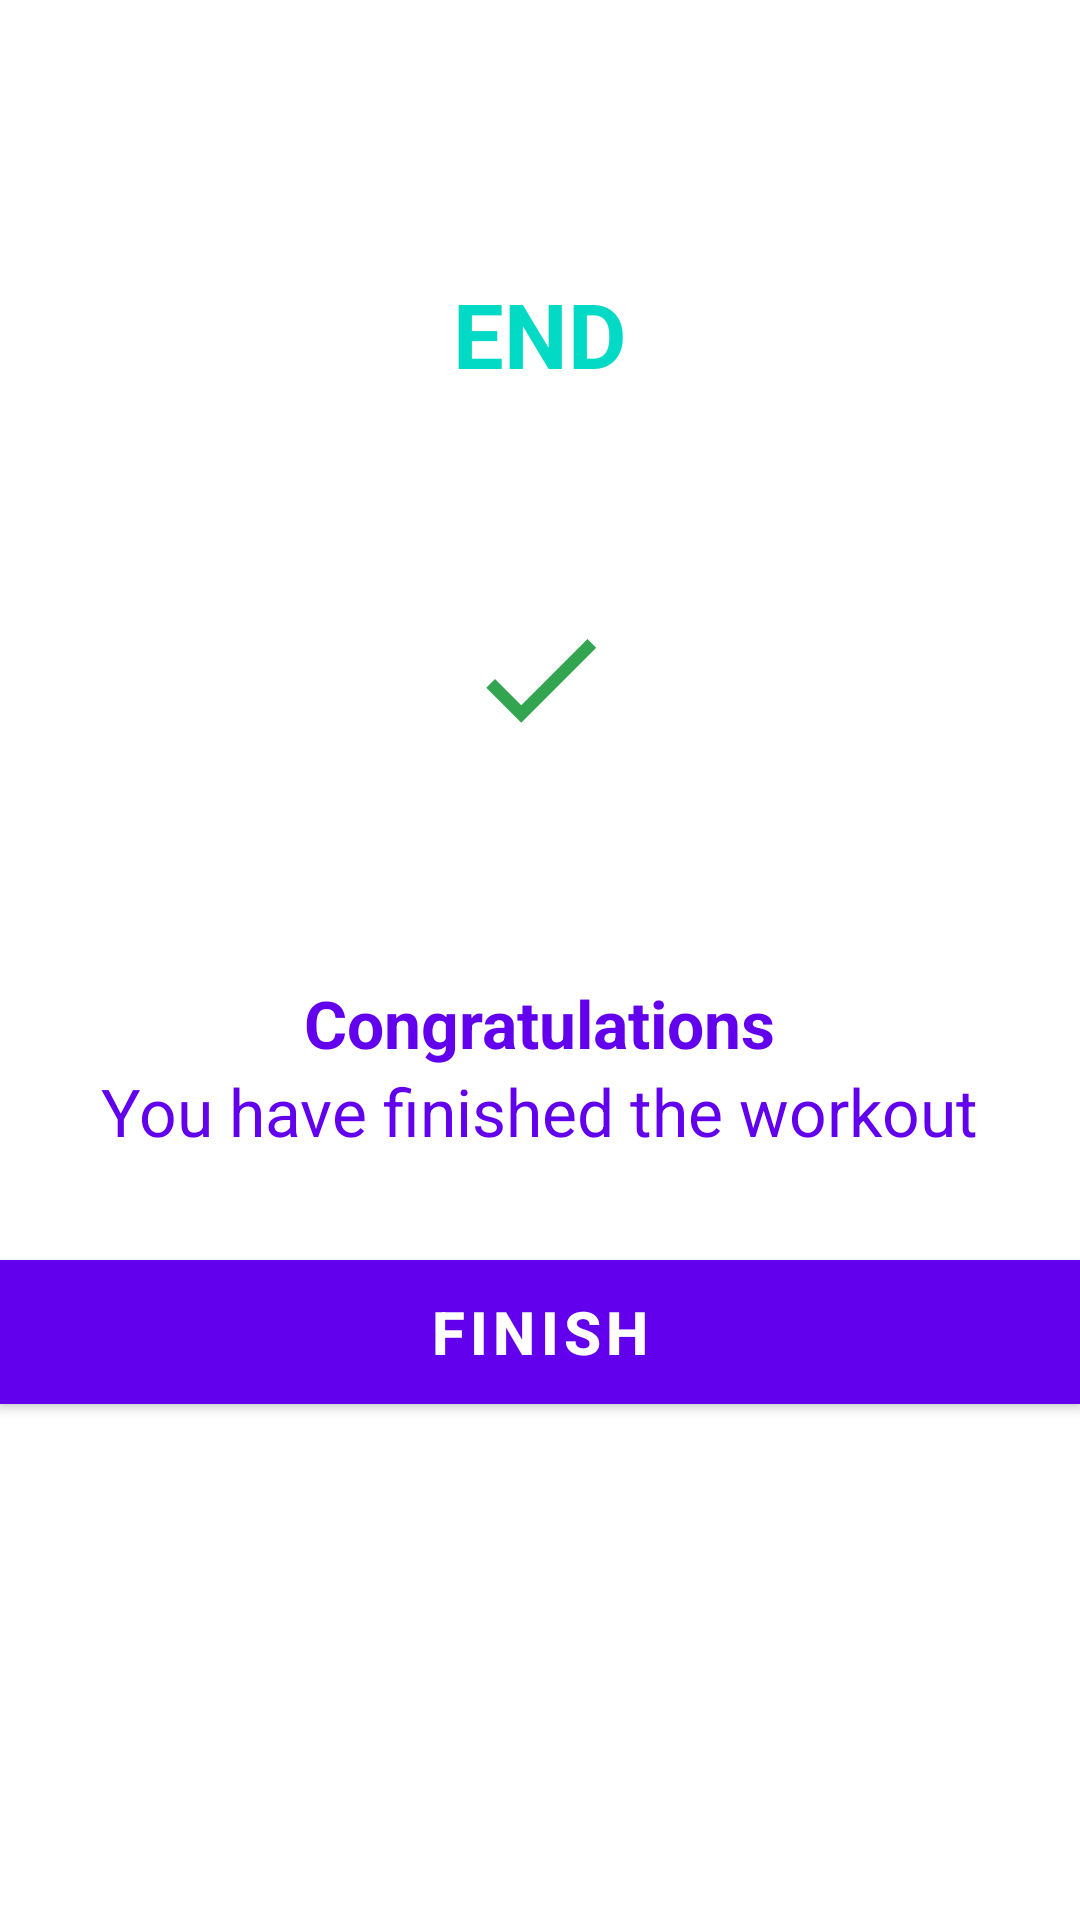

Point at icon controls on the screen. Image size 1080px x 1920px, points as [x,y].
done: [541,681]
